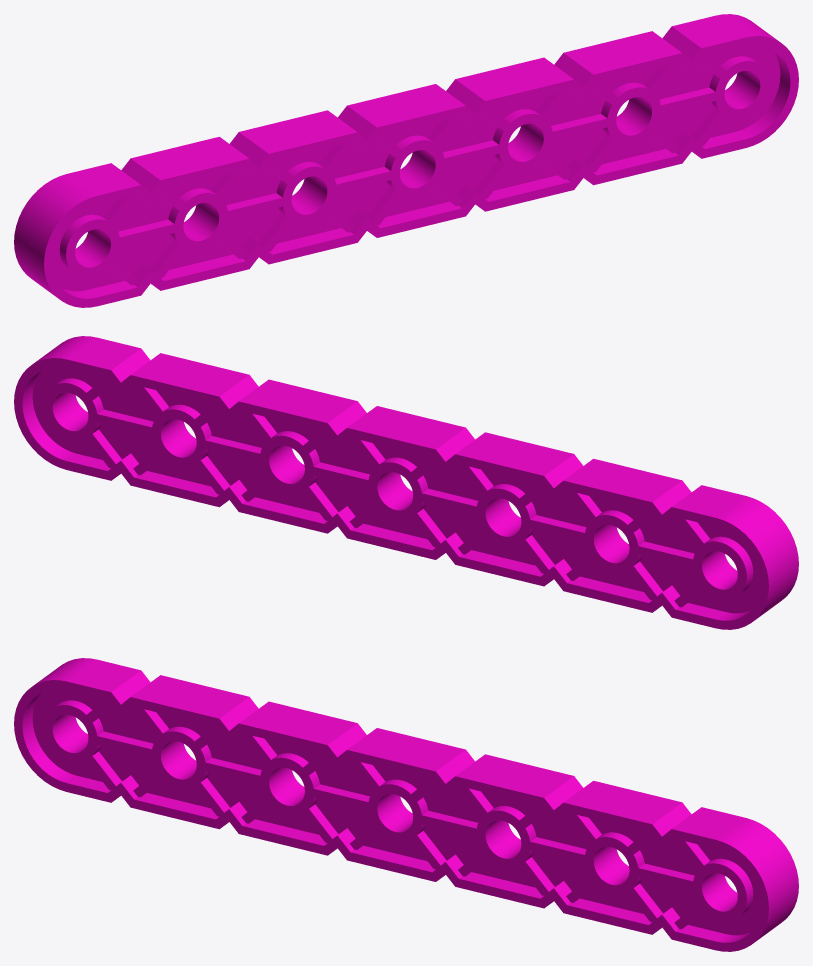
The picture shows the model from 3 angles, top to bottom: view 1: azimuth 30°, elevation 25°; view 2: azimuth 150°, elevation 25°; view 3: azimuth 330°, elevation 25°; orthographic projection.
Visible parts, largest first — view 1: main_e10098; view 2: main_e10098; view 3: main_e10098.
Boxes of the visible parts, left/top/right/bottom form: main_e10098: left=14, top=14, right=798, bottom=307; main_e10098: left=14, top=336, right=798, bottom=629; main_e10098: left=14, top=658, right=798, bottom=951.
Bounding box in the file's own units: 88.6 × 12.4 × 6.1.
